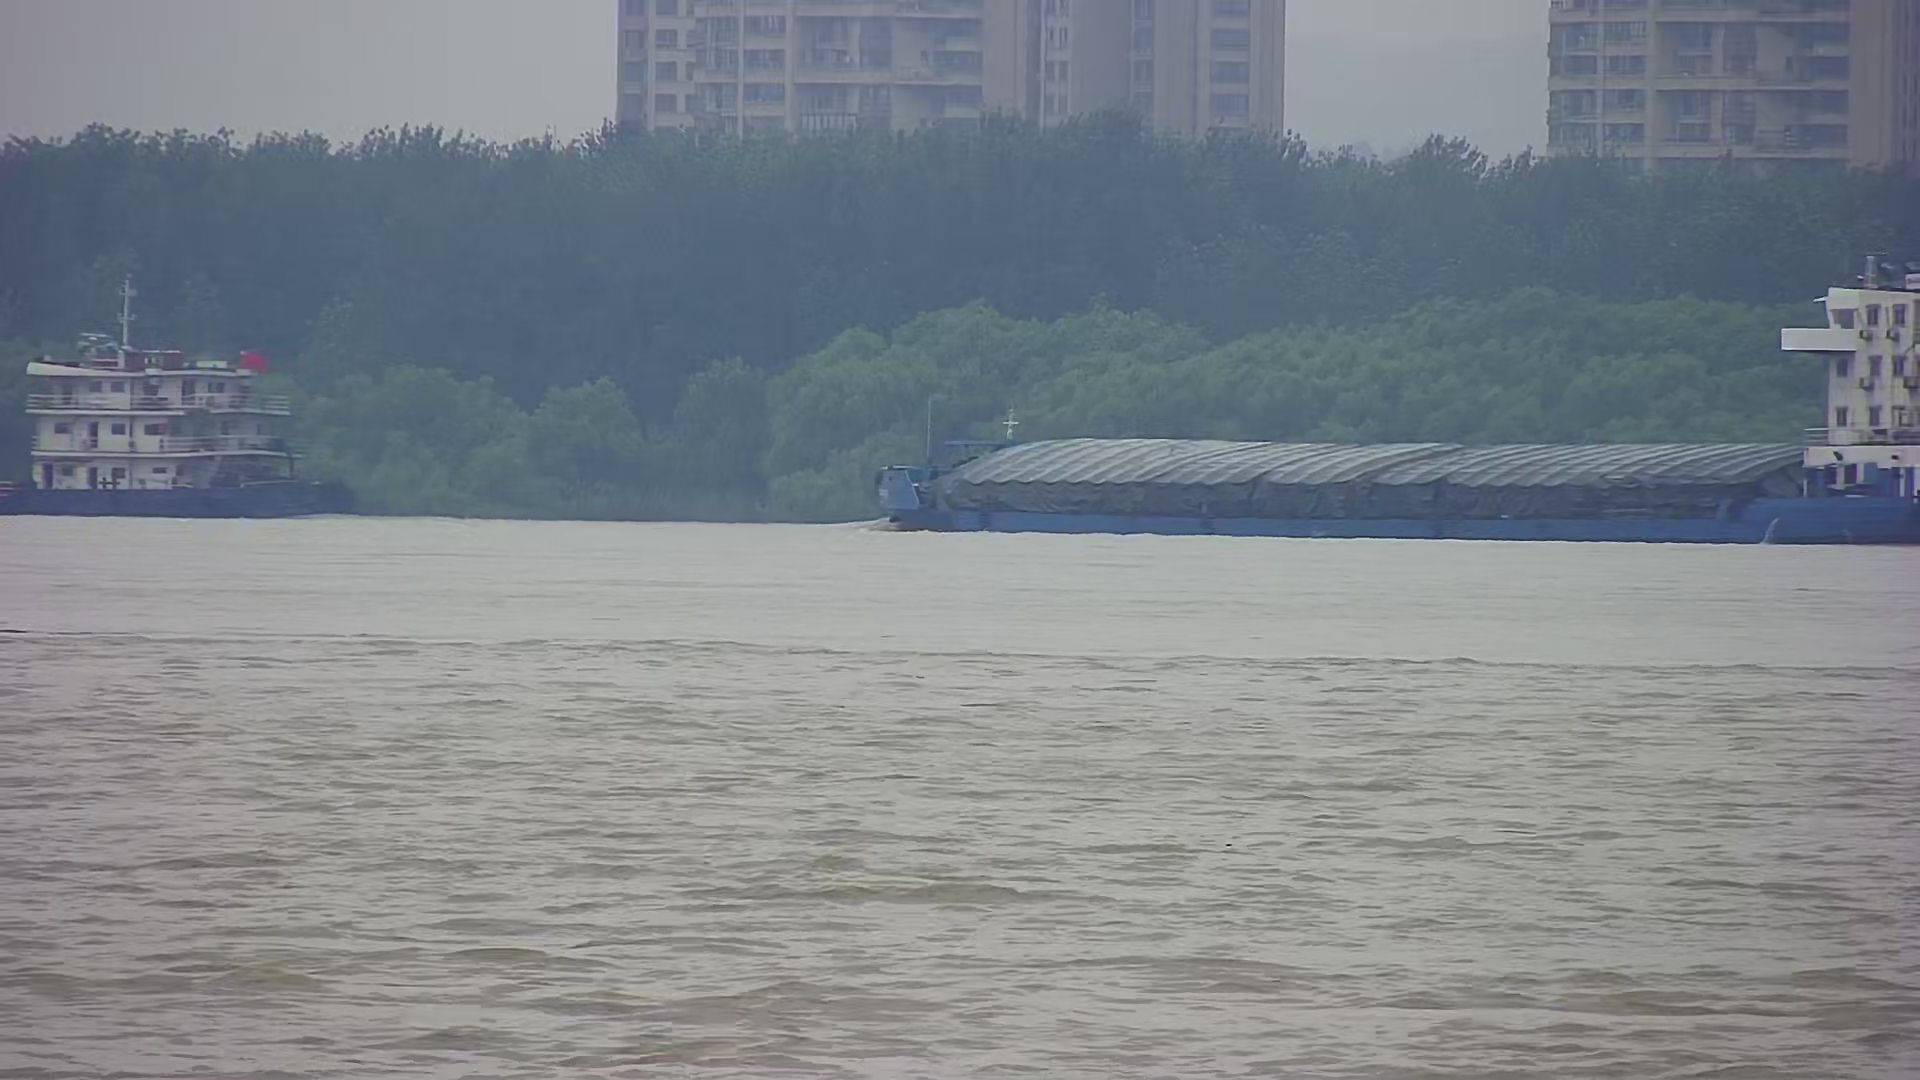ship: (857, 251, 1919, 556), (1, 299, 352, 522)
